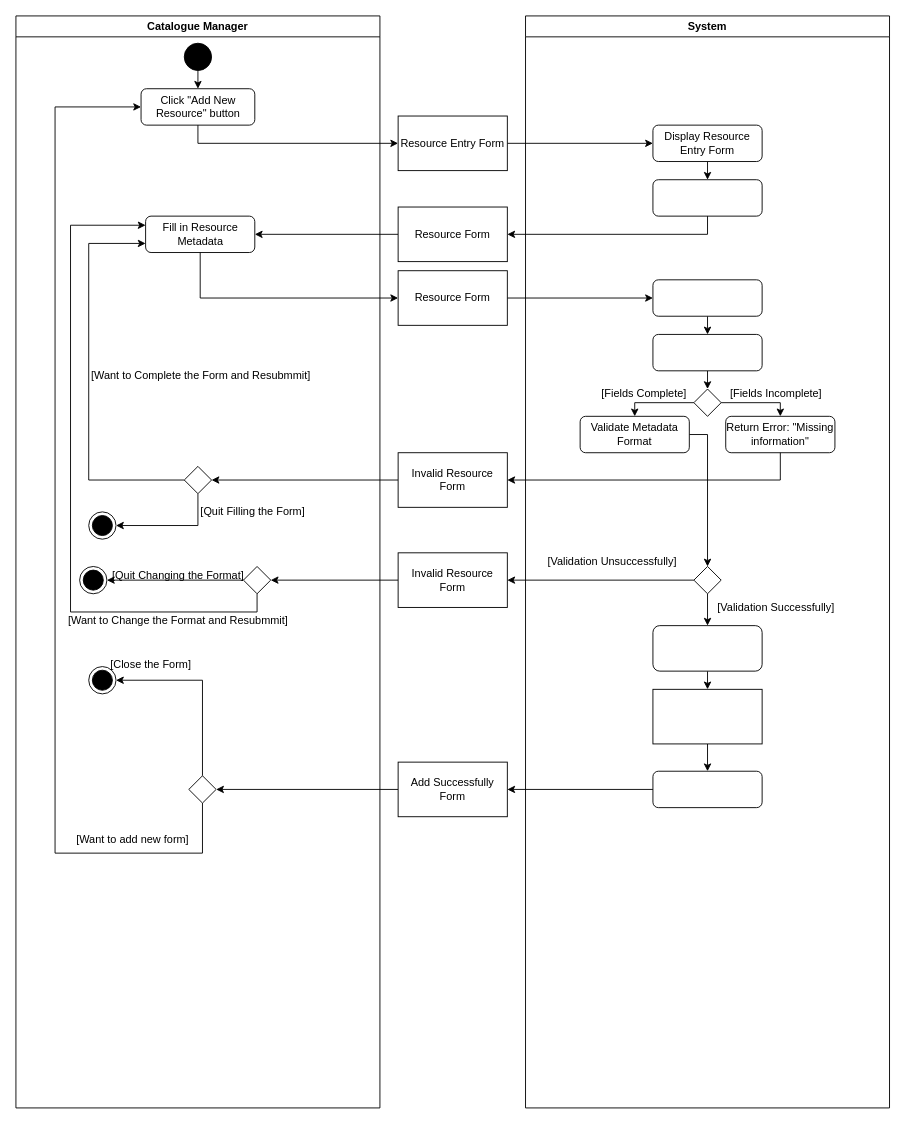
This 905x1124 diagram has some shape labels left out. The shapes that lost their labels are listed below. From the top down, each one's centre as x and y in pixels, then its label:
At point 707,197: "Create Resource Form".
At point 707,297: "Receive Resource Form and Files".
At point 707,352: "Check mandatory fields".
At point 707,648: "Commit New Resource Record to Catalogue Database".
At point 707,716: "Catalogue Database".
At point 707,789: "Generate Add Successfully Form".
